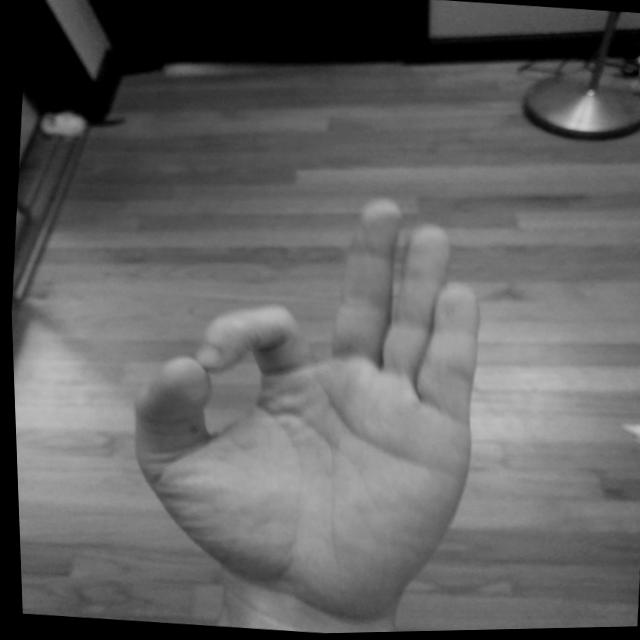F: (98, 168, 510, 637)
